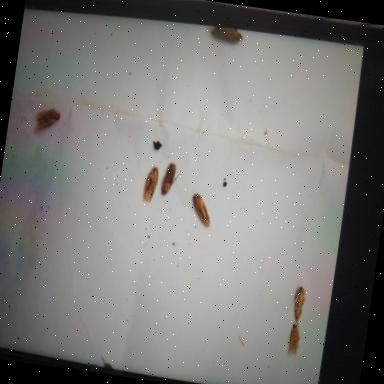pbw: (188, 191, 214, 228), (289, 284, 307, 334), (204, 24, 244, 46), (160, 161, 182, 197), (141, 164, 160, 204), (34, 106, 60, 135), (287, 321, 302, 354)
